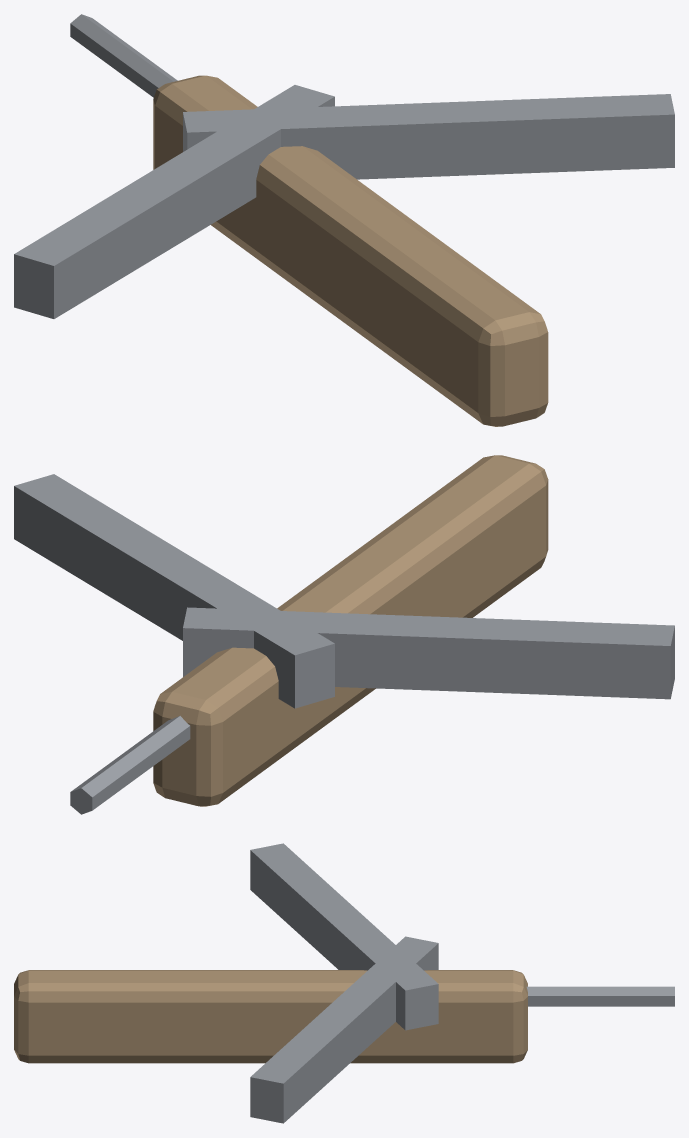
The model's file is wpn_crossbow.glb.
3 renders of one model, top to bottom at view 1: azimuth 30°, elevation 25°; view 2: azimuth 150°, elevation 25°; view 3: azimuth 270°, elevation 25°, orthographic. The views are drawn at different scales.
Parts seen in each view (by area): view 1: xbow_stock, xbow_limb_r, xbow_limb_l, xbow_bolt; view 2: xbow_stock, xbow_limb_l, xbow_limb_r, xbow_bolt; view 3: xbow_stock, xbow_limb_r, xbow_limb_l, xbow_bolt.
Boxes of the visible parts, x1,y1,x2,y2 form: xbow_stock: [153, 75, 548, 426]; xbow_limb_r: [183, 94, 674, 179]; xbow_limb_l: [14, 85, 334, 318]; xbow_bolt: [70, 14, 177, 97]; xbow_stock: [153, 455, 548, 806]; xbow_limb_l: [183, 607, 674, 699]; xbow_limb_r: [14, 474, 334, 708]; xbow_bolt: [70, 716, 190, 814]; xbow_stock: [14, 970, 527, 1063]; xbow_limb_r: [250, 936, 438, 1123]; xbow_limb_l: [250, 843, 438, 1030]; xbow_bolt: [526, 986, 674, 1006].
Bounding box in the file's own units: 0.7743 × 0.14 × 0.9.
